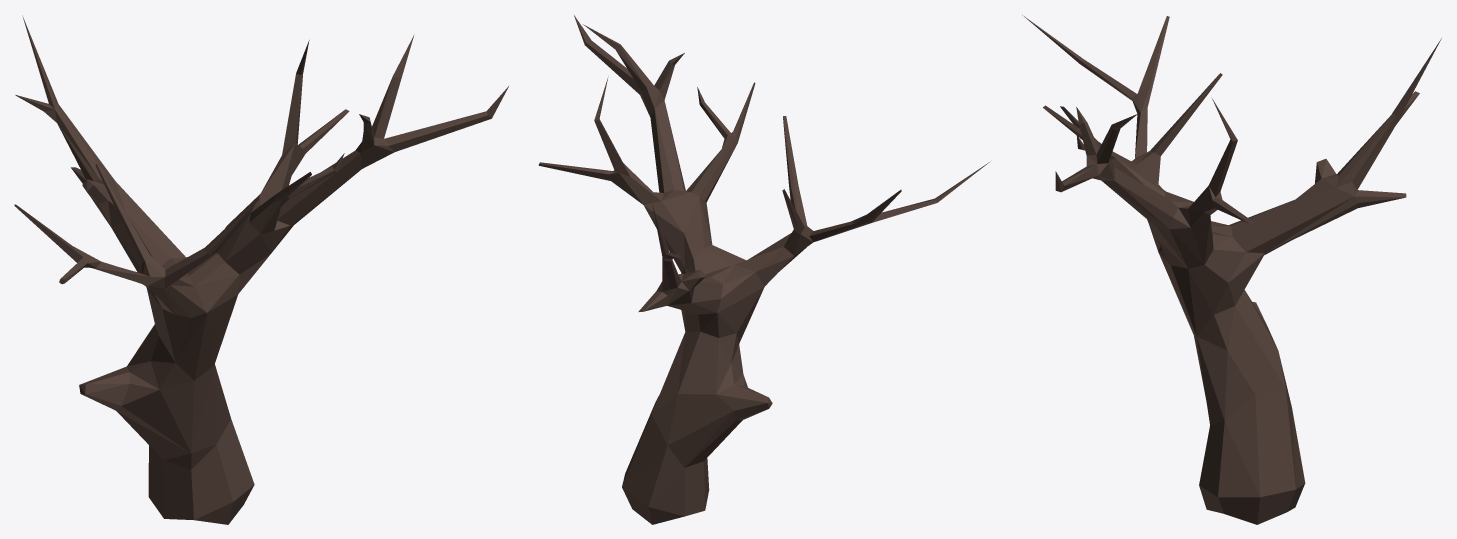
The model's file is dead-tree.fbx.
The picture shows the model from 3 angles, left to right: view 1: azimuth 30°, elevation 25°; view 2: azimuth 150°, elevation 25°; view 3: azimuth 270°, elevation 25°; orthographic projection. The views are drawn at different scales.
Visible parts, largest first — view 1: dead-tree-2; view 2: dead-tree-2; view 3: dead-tree-2.
Part boxes in pixels (x1,y1,x2,y2): dead-tree-2: (14, 15, 508, 524); dead-tree-2: (538, 15, 990, 524); dead-tree-2: (1022, 15, 1441, 524).
Bounding box in the file's own units: 1500 × 1500 × 1200.
